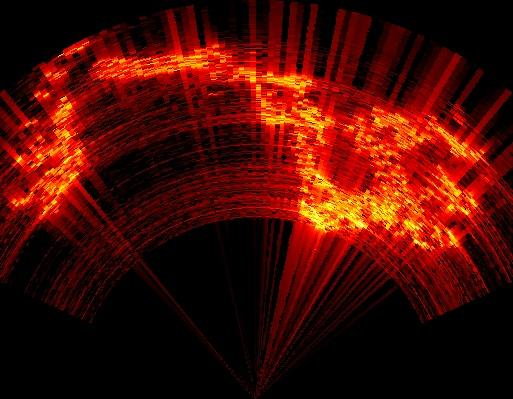shipwreck: (93, 45, 480, 249), (0, 95, 87, 218)
